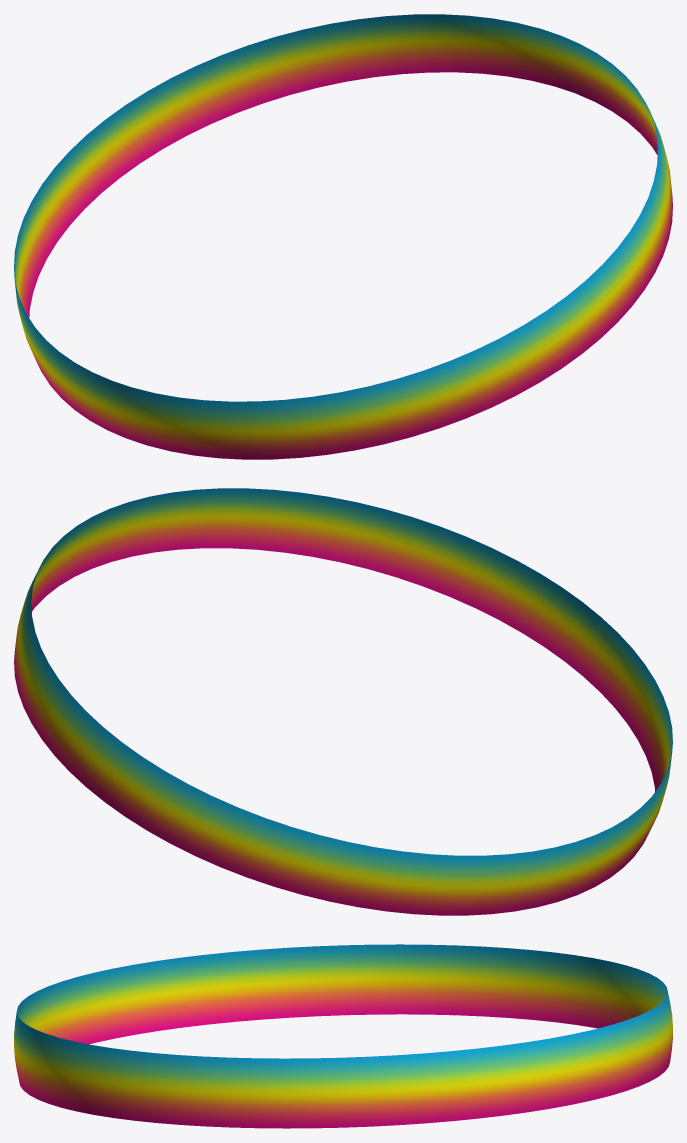
Rendered from RainBow0.fbx.
The picture shows the model from 3 angles, top to bottom: view 1: azimuth 30°, elevation 25°; view 2: azimuth 150°, elevation 25°; view 3: azimuth 270°, elevation 25°; orthographic projection.
Visible parts, largest first — view 1: SM_SlamCircle; view 2: SM_SlamCircle; view 3: SM_SlamCircle.
Boxes of the visible parts, x1,y1,x2,y2 form: SM_SlamCircle: [14, 14, 672, 459]; SM_SlamCircle: [14, 488, 672, 915]; SM_SlamCircle: [14, 944, 672, 1128].
Bounding box in the file's own units: 48.3 × 17.82 × 49.16.
